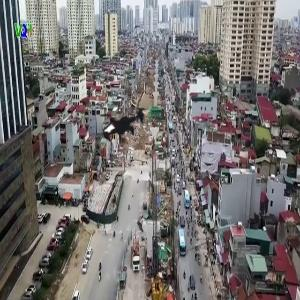drone: (85, 83, 161, 159)
